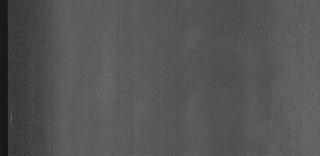silk spot: (268, 6, 312, 152)
